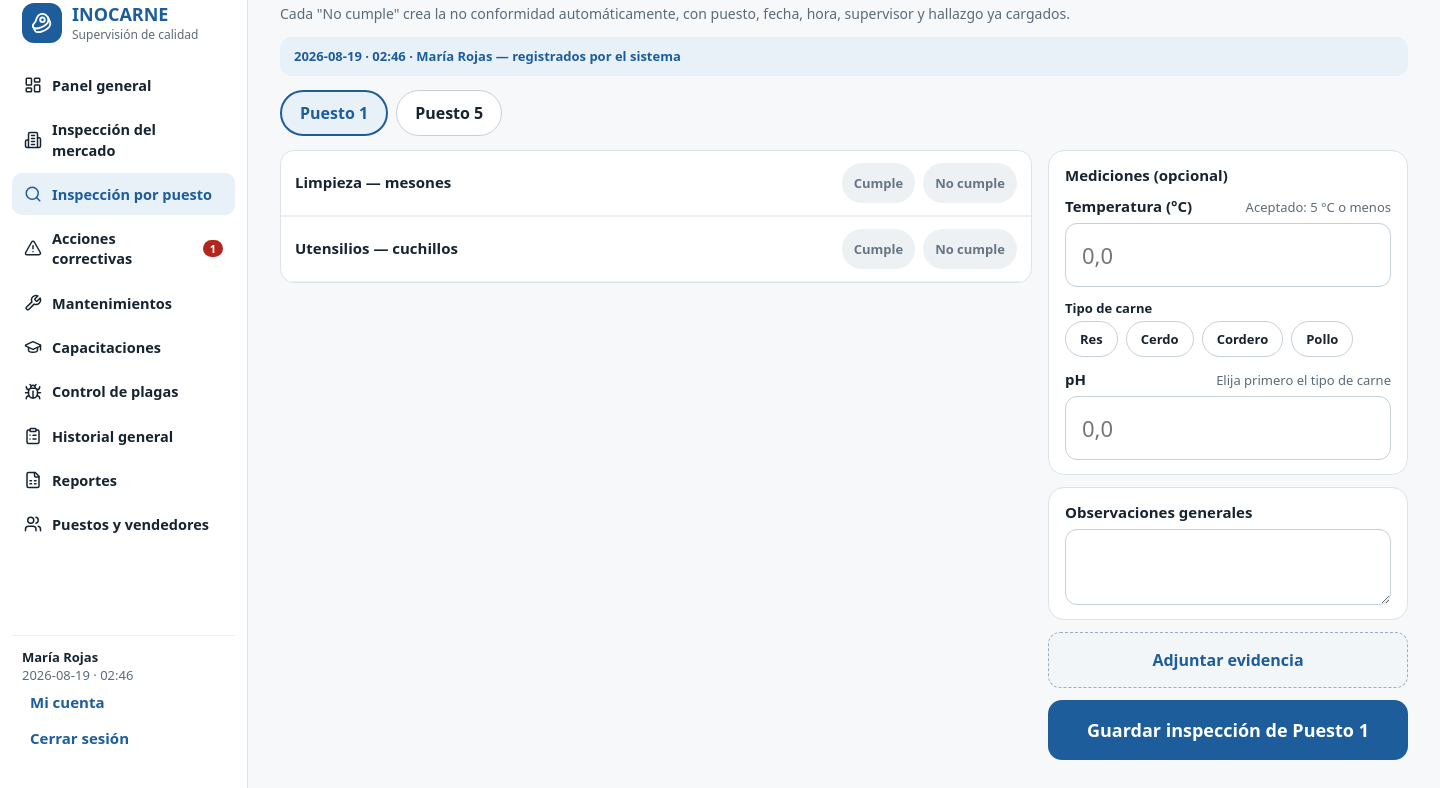
Test: inspección por puesto › no deja guardar con el checklist a medias
(page scrolled)
Click the button "Guardar inspección de Puesto 1": (1228,730) [1048, 700, 1408, 760]
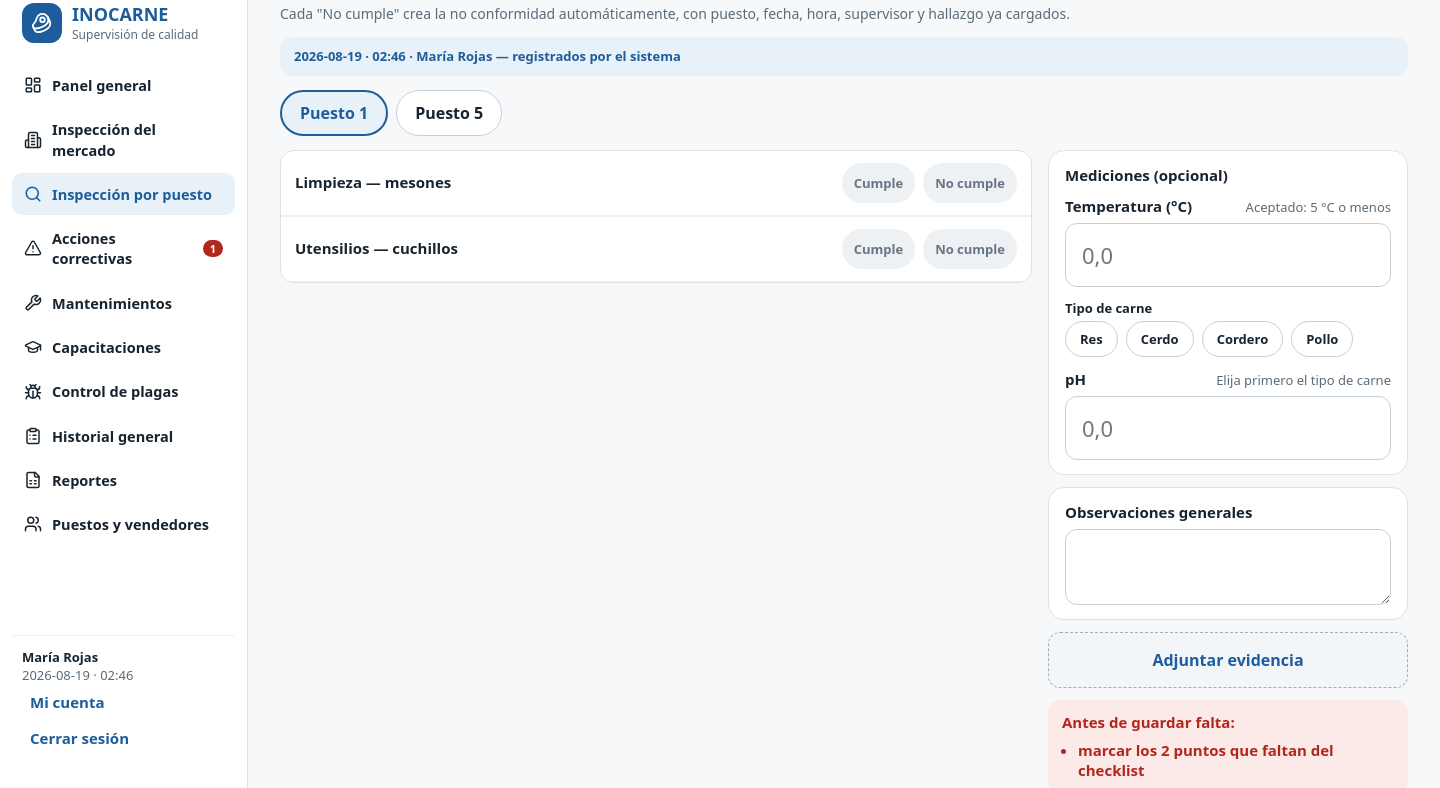
Expected: the list item "marcar los 2 puntos que faltan del checklist" is shown, [1078, 740, 1334, 780]
